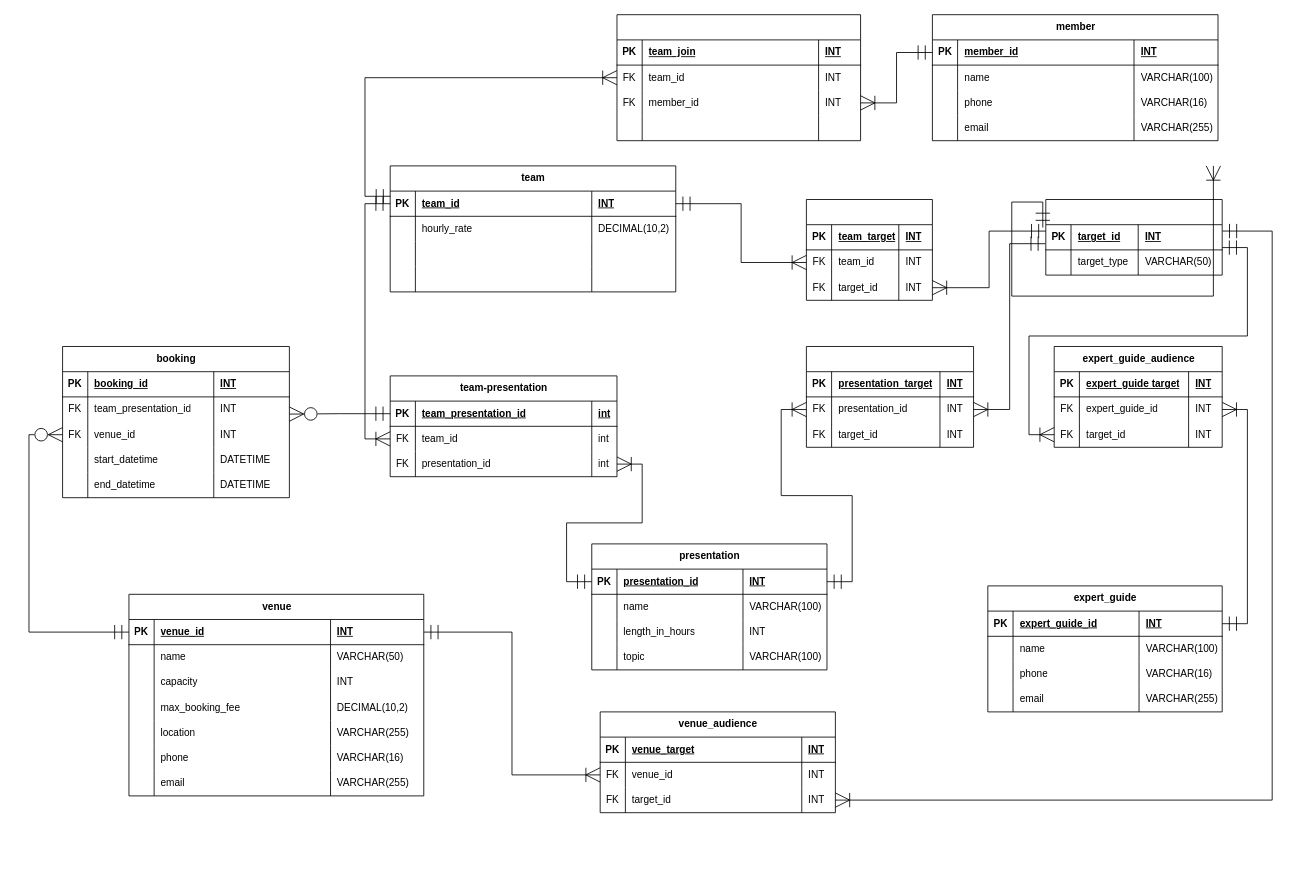
Image size: 1302x894. Some labels were removed from this diagram. Each missing label, with the box of its shape:
presentation_audience: (806, 346, 974, 447)
target_audience: (1045, 199, 1222, 275)
team_audience: (806, 199, 932, 300)
team_has_member: (616, 14, 861, 141)
